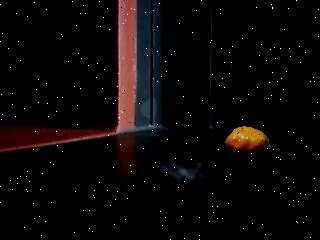Potato: (224, 126, 271, 158)
